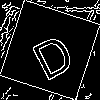D: (25, 25, 78, 82)
